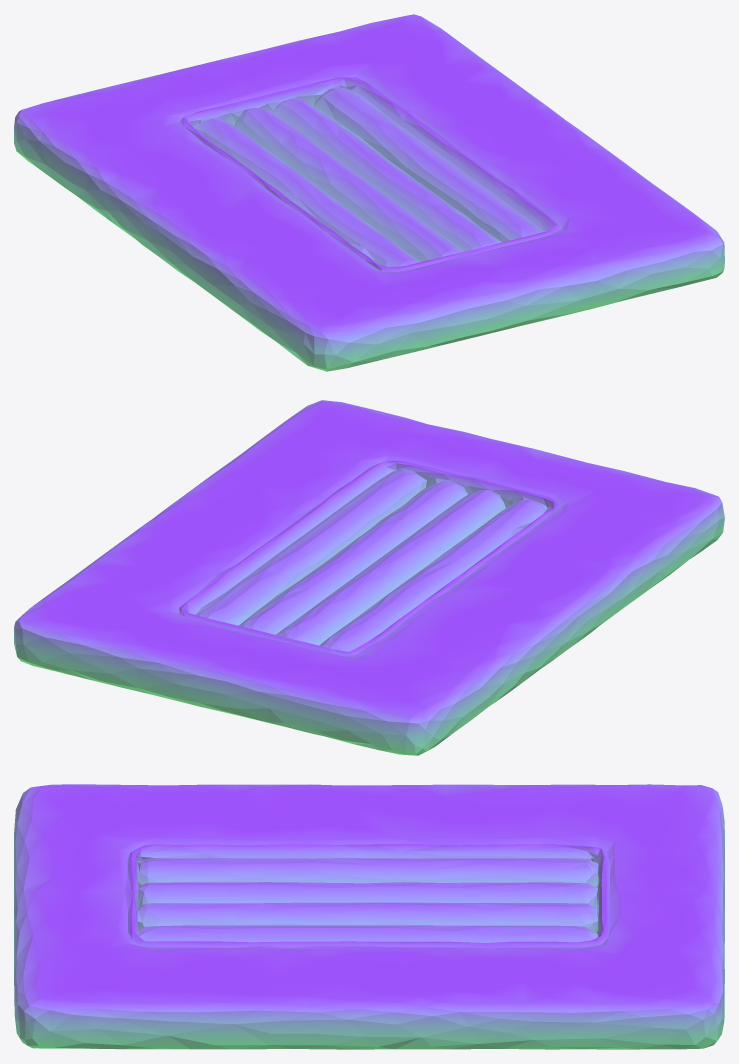
The model's file is 51_cyb_laser_gradient_fish_scales_2853_2026_10_03_5e1dfc.glb.
The picture shows the model from 3 angles, top to bottom: view 1: azimuth 30°, elevation 25°; view 2: azimuth 150°, elevation 25°; view 3: azimuth 270°, elevation 25°; orthographic projection. The views are drawn at different scales.
Parts seen in each view (by area): view 1: geometry_0; view 2: geometry_0; view 3: geometry_0.
Boxes of the visible parts, x1,y1,x2,y2 form: geometry_0: [14, 14, 724, 371]; geometry_0: [14, 400, 724, 755]; geometry_0: [14, 784, 724, 1049].
Size of the model in its own units: 0.7649 by 0.0782 by 1.
